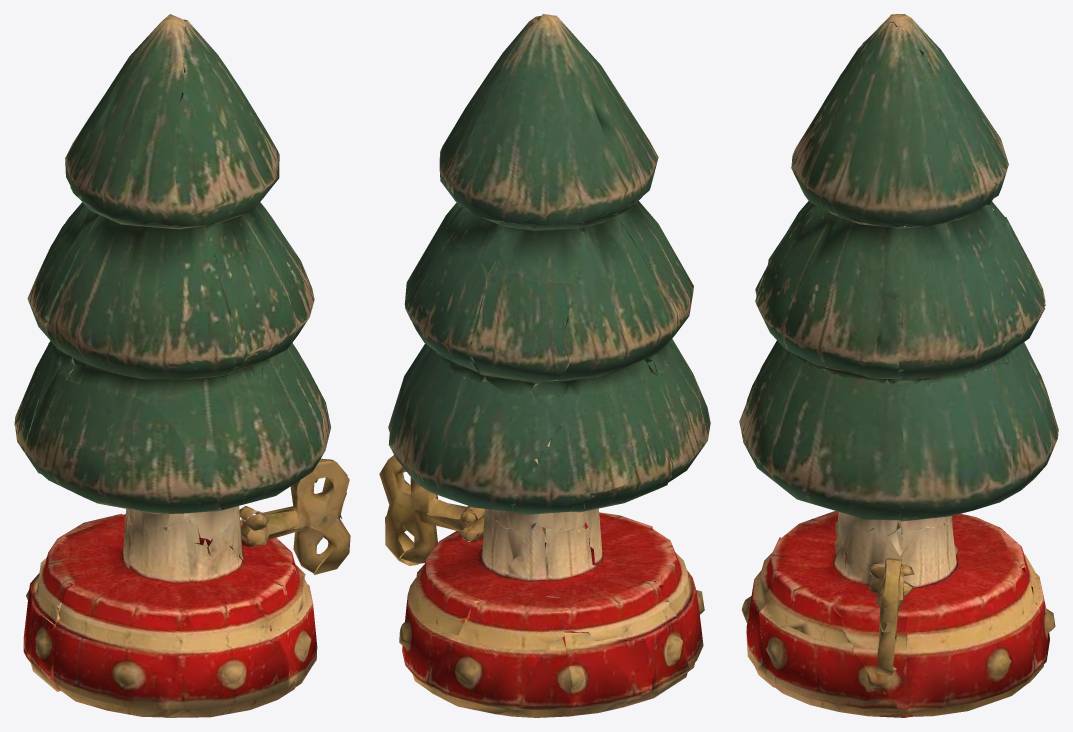
Rendered from prop_toy_tree.glb.
The picture shows the model from 3 angles, left to right: view 1: azimuth 30°, elevation 25°; view 2: azimuth 150°, elevation 25°; view 3: azimuth 270°, elevation 25°; orthographic projection.
Visible parts, largest first — view 1: Mesh_0; view 2: Mesh_0; view 3: Mesh_0.
Boxes of the visible parts, bbox=[...] form: Mesh_0: bbox=[14, 14, 350, 717]; Mesh_0: bbox=[379, 14, 710, 717]; Mesh_0: bbox=[739, 14, 1058, 717].
Bounding box in the file's own units: 0.4519 × 0.8996 × 0.4045.
Materials: 1 (1 with a texture image).
